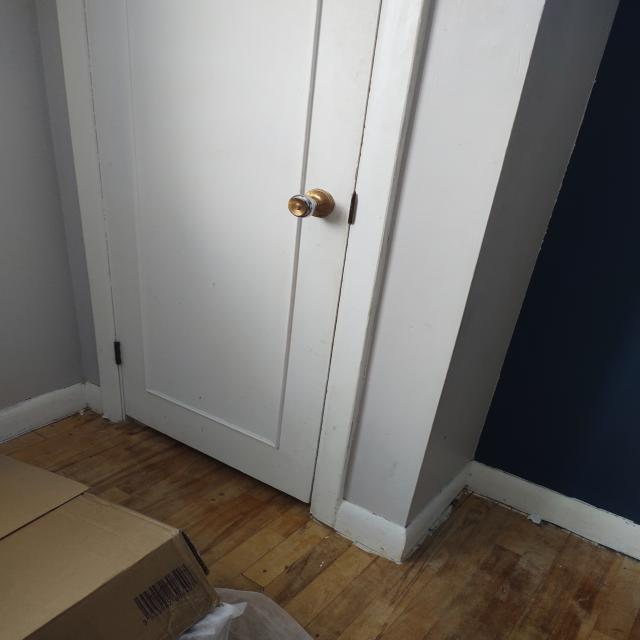door-knob: (287, 189, 334, 218)
